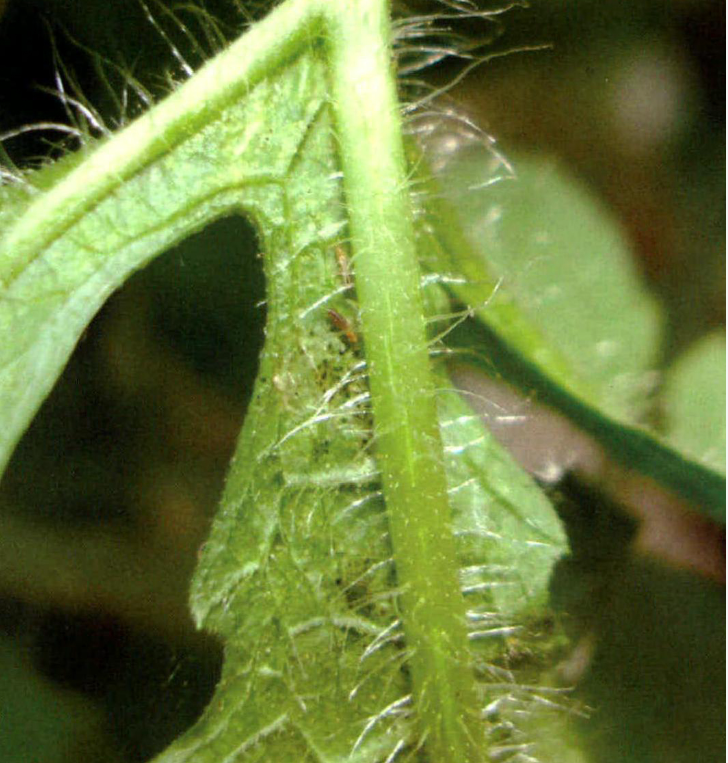thrips: (320, 306, 358, 348)
